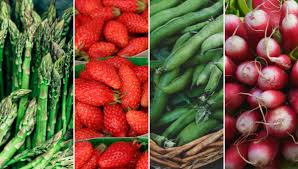raddish: (233, 136, 285, 169), (239, 4, 286, 38), (235, 102, 276, 135), (246, 33, 284, 66), (236, 58, 265, 90), (265, 106, 298, 134), (281, 13, 298, 50), (260, 87, 287, 106), (228, 81, 245, 111)
